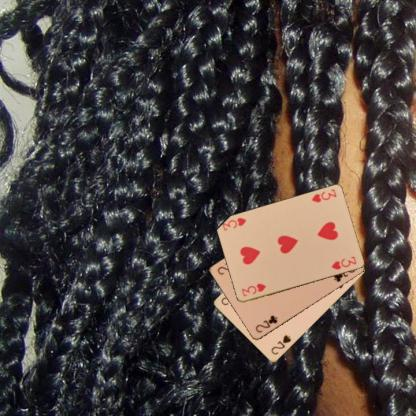2c: (252, 313, 278, 334)
2s: (269, 331, 292, 356)
3h: (308, 187, 338, 204), (239, 280, 267, 298)
